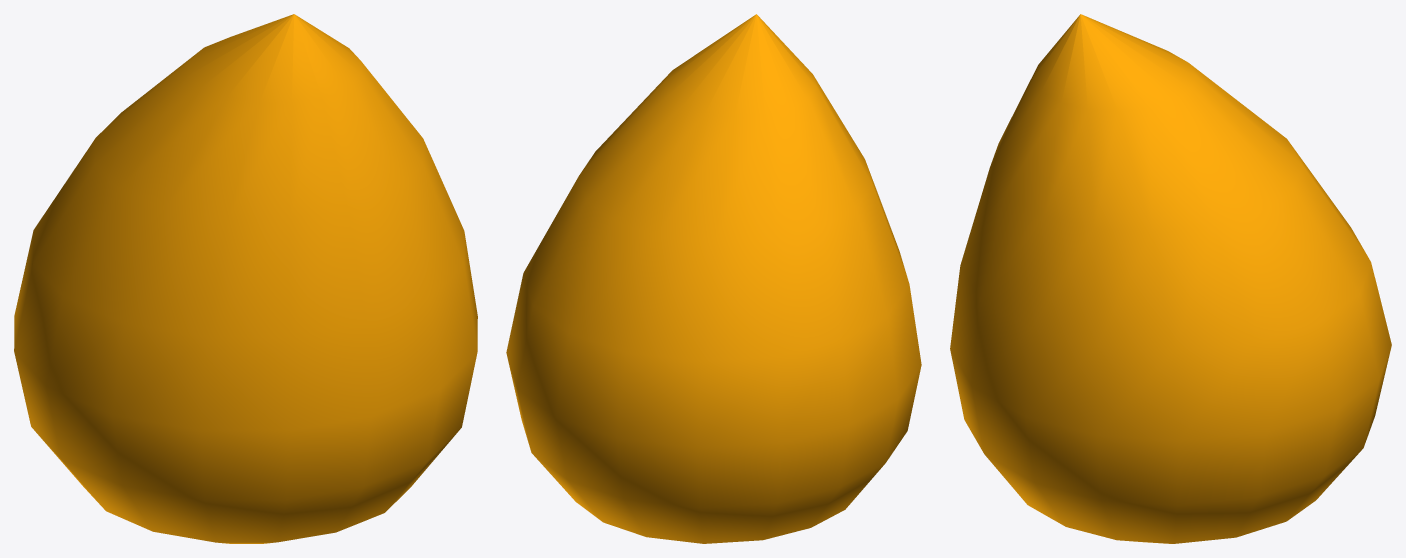
Rendered from body.obj.
3 views of the same model, side by side, from view 1: azimuth 30°, elevation 25°; view 2: azimuth 150°, elevation 25°; view 3: azimuth 270°, elevation 25° (orthographic). The views are drawn at different scales.
Parts seen in each view (by area): view 1: object_1; view 2: object_1; view 3: object_1.
Boxes of the visible parts, left/top/right/bottom form: object_1: left=14, top=14, right=477, bottom=543; object_1: left=506, top=14, right=921, bottom=543; object_1: left=950, top=14, right=1391, bottom=543.
Size of the model in its own units: 10.05 by 12.45 by 10.05.
